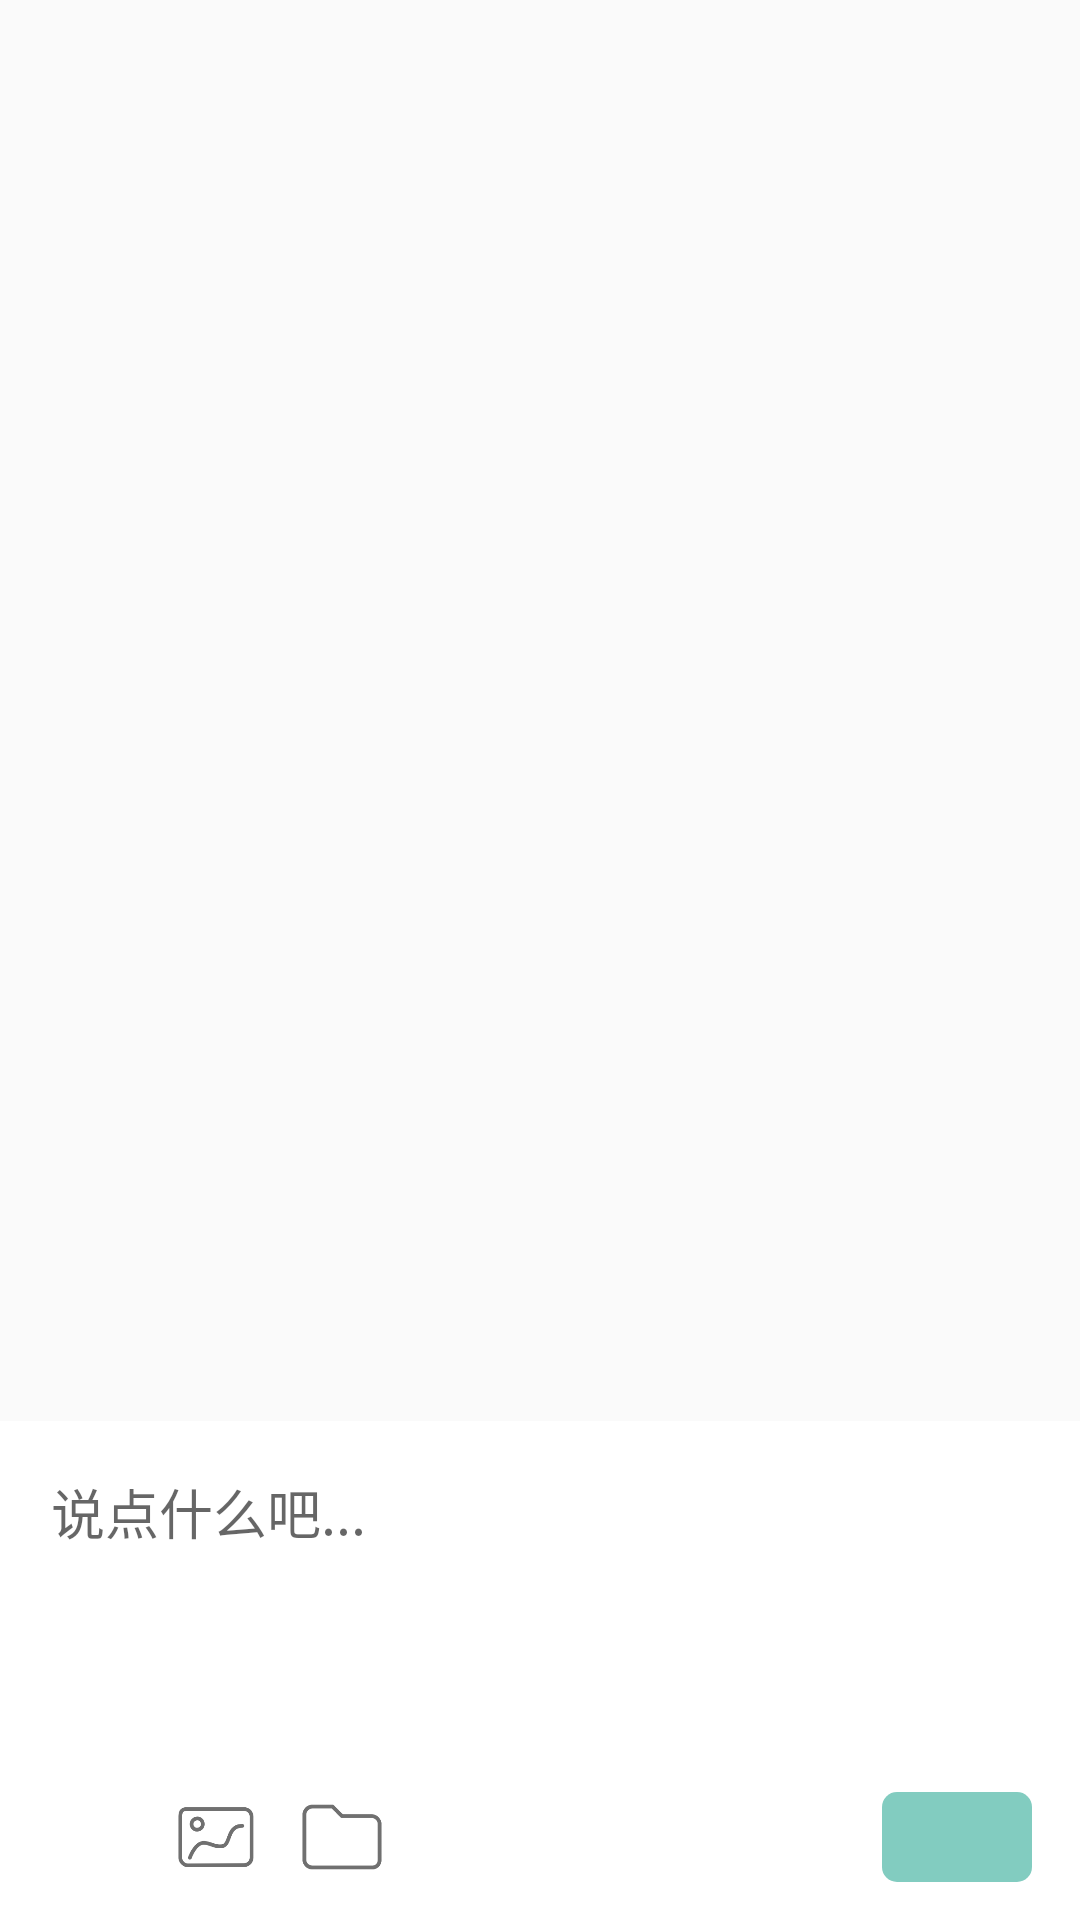

Icons on this 1080px×1920px Android screen, each with its box as bbox=(x1, y1, x2, y2):
file: bbox=(302, 1804, 382, 1870)
